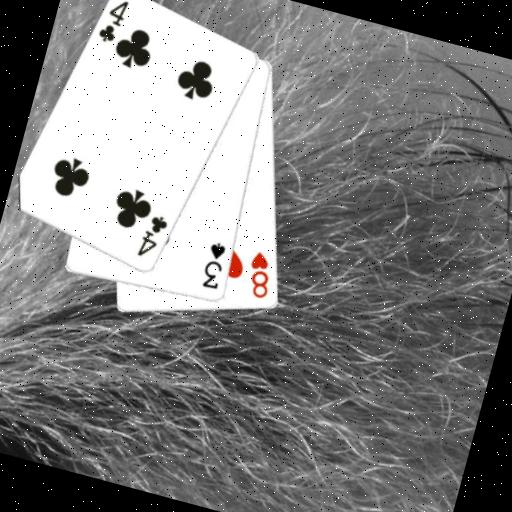3S: (197, 237, 231, 292)
4C: (133, 209, 171, 263), (92, 0, 131, 47)
8H: (240, 246, 280, 302)
